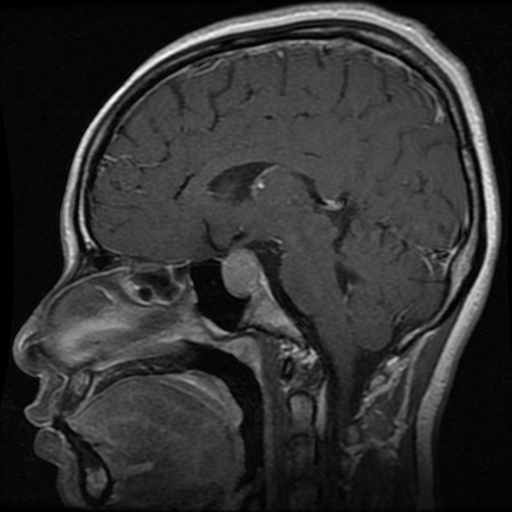pituitary: (222, 248, 260, 298)
